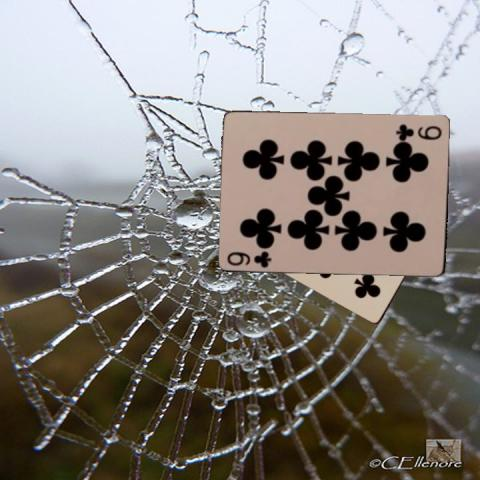9c: (224, 247, 273, 268), (393, 120, 444, 138)
